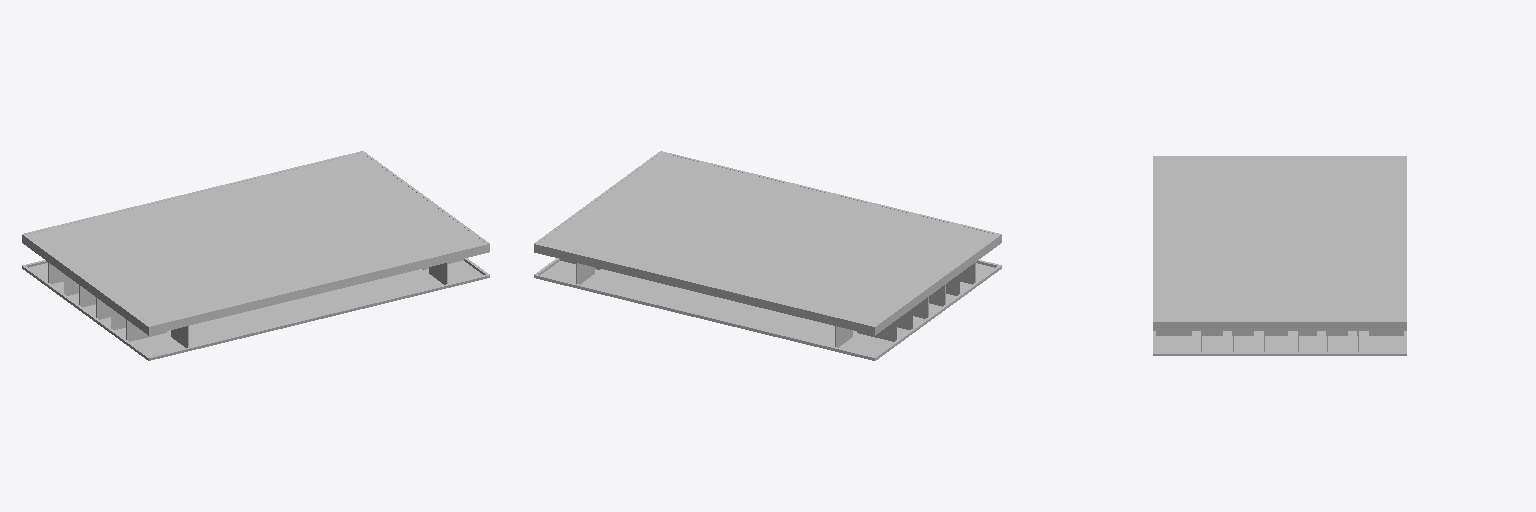
File: Envelope_ForPunch_WWR40p_9ft.obj
3 renders of one model, left to right at view 1: azimuth 30°, elevation 25°; view 2: azimuth 150°, elevation 25°; view 3: azimuth 270°, elevation 25°, orthographic.
Visible parts, largest first — view 1: Envelope_ForPunch_WWR40p_9ft.obj; view 2: Envelope_ForPunch_WWR40p_9ft.obj; view 3: Envelope_ForPunch_WWR40p_9ft.obj.
Boxes of the visible parts, x1,y1,x2,y2 form: Envelope_ForPunch_WWR40p_9ft.obj: [22, 151, 489, 360]; Envelope_ForPunch_WWR40p_9ft.obj: [534, 151, 1001, 360]; Envelope_ForPunch_WWR40p_9ft.obj: [1153, 156, 1406, 355].
Size of the model in its own units: 38.71 by 3.69 by 24.97.